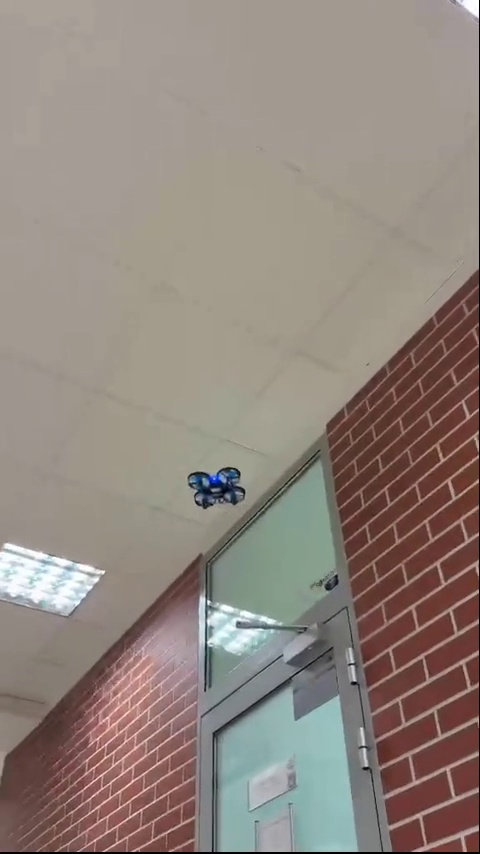drone: (188, 469, 249, 512)
